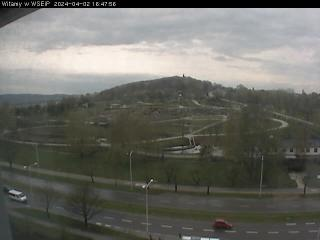car: (8, 189, 28, 203), (213, 218, 231, 229), (3, 185, 14, 193)
